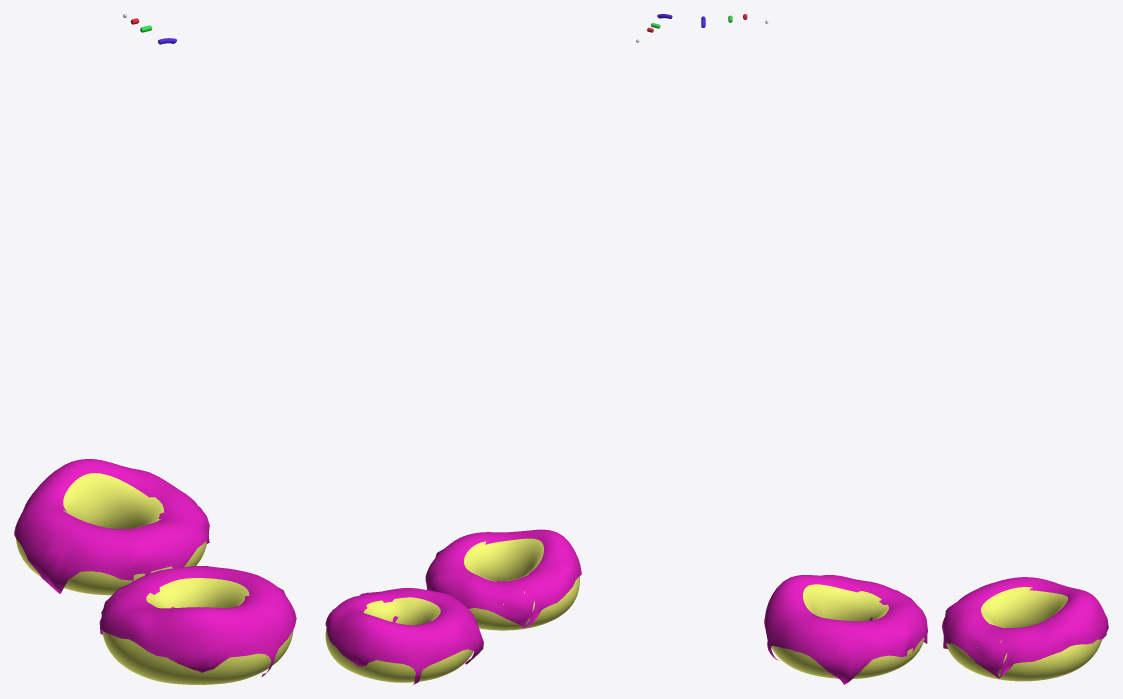
File: donat.glb
3 views of the same model, side by side, from view 1: azimuth 30°, elevation 25°; view 2: azimuth 150°, elevation 25°; view 3: azimuth 270°, elevation 25° (orthographic). The views are drawn at different scales.
Parts seen in each view (by area): view 1: Torus.004, Torus.001, Torus.003, Torus.002; view 2: Torus.004, Torus.001, Torus.003, Torus.002; view 3: Torus.001, Torus.004, Torus.002, Torus.003.
Boxes of the visible parts, bbox=[...] form: Torus.004: bbox=[14, 459, 209, 593]; Torus.001: bbox=[99, 566, 296, 676]; Torus.003: bbox=[102, 578, 293, 684]; Torus.002: bbox=[16, 473, 206, 595]; Torus.004: bbox=[325, 588, 483, 684]; Torus.001: bbox=[425, 529, 581, 628]; Torus.003: bbox=[464, 538, 579, 630]; Torus.002: bbox=[325, 597, 473, 682]; Torus.001: bbox=[764, 575, 927, 684]; Torus.004: bbox=[942, 577, 1108, 678]; Torus.002: bbox=[946, 587, 1102, 681]; Torus.003: bbox=[771, 584, 924, 678].
Size of the model in its own units: 4.63 by 13.57 by 8.48.
